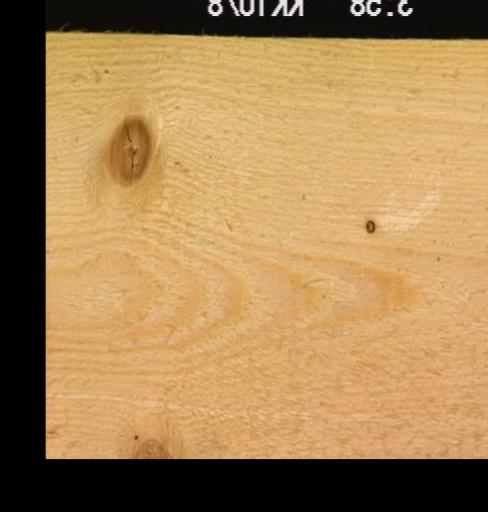dry_knot: (363, 215, 377, 234)
edge_knot: (127, 432, 176, 458)
sound_knot: (103, 113, 153, 187)
